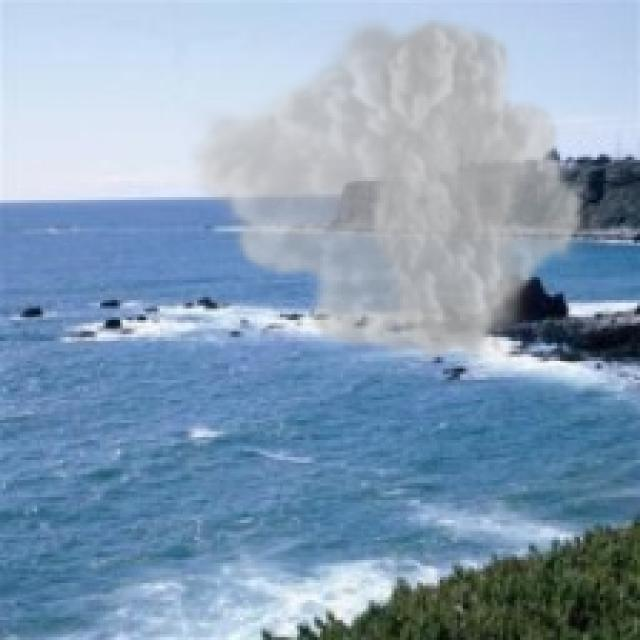smoke: (186, 9, 588, 368)
